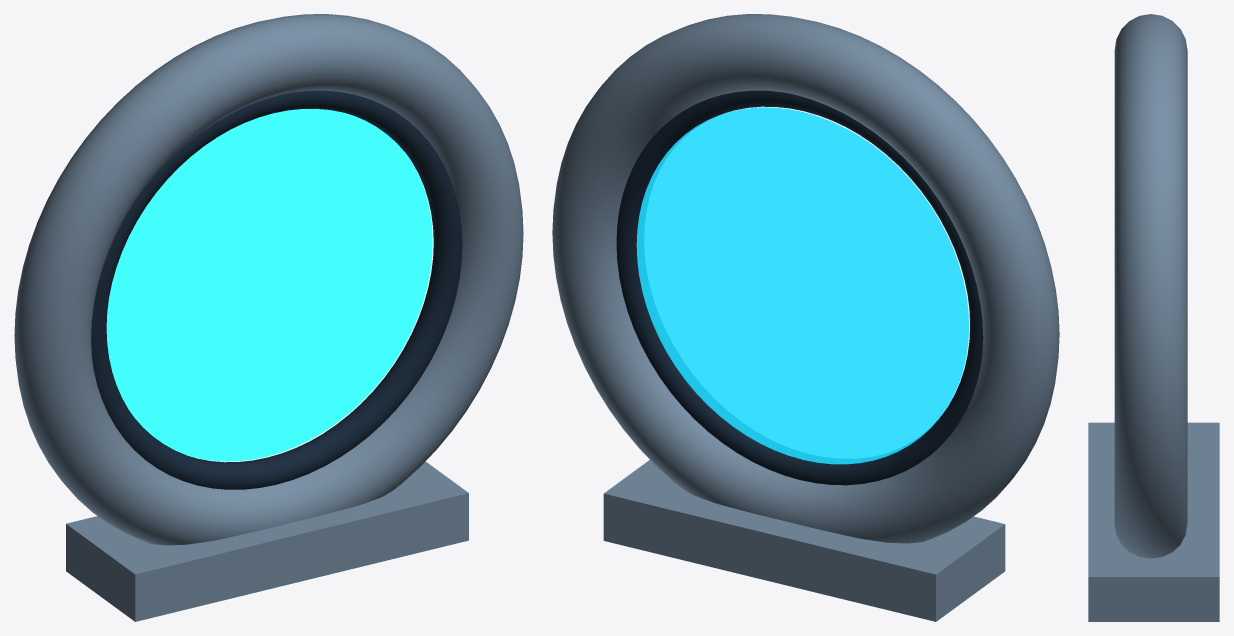
Rendered from expedition-portal.glb.
3 views of the same model, side by side, from view 1: azimuth 30°, elevation 25°; view 2: azimuth 150°, elevation 25°; view 3: azimuth 270°, elevation 25° (orthographic). The views are drawn at different scales.
Parts seen in each view (by area): view 1: OuterRing, Energy, PortalBase, InsetRing; view 2: OuterRing, Energy, PortalBase, InsetRing; view 3: OuterRing, PortalBase.
Part boxes in pixels (x1=…): OuterRing: x1=14, y1=14, x2=523, y2=545; Energy: x1=106, y1=109, x2=432, y2=461; PortalBase: x1=66, y1=461, x2=468, y2=621; InsetRing: x1=91, y1=90, x2=462, y2=489; OuterRing: x1=552, y1=14, x2=1059, y2=543; Energy: x1=636, y1=107, x2=968, y2=464; PortalBase: x1=603, y1=460, x2=1005, y2=621; InsetRing: x1=616, y1=90, x2=983, y2=485; OuterRing: x1=1114, y1=14, x2=1187, y2=558; PortalBase: x1=1088, y1=422, x2=1219, y2=621.
Bounding box in the file's own units: 3.74 × 3.82 × 0.9.
